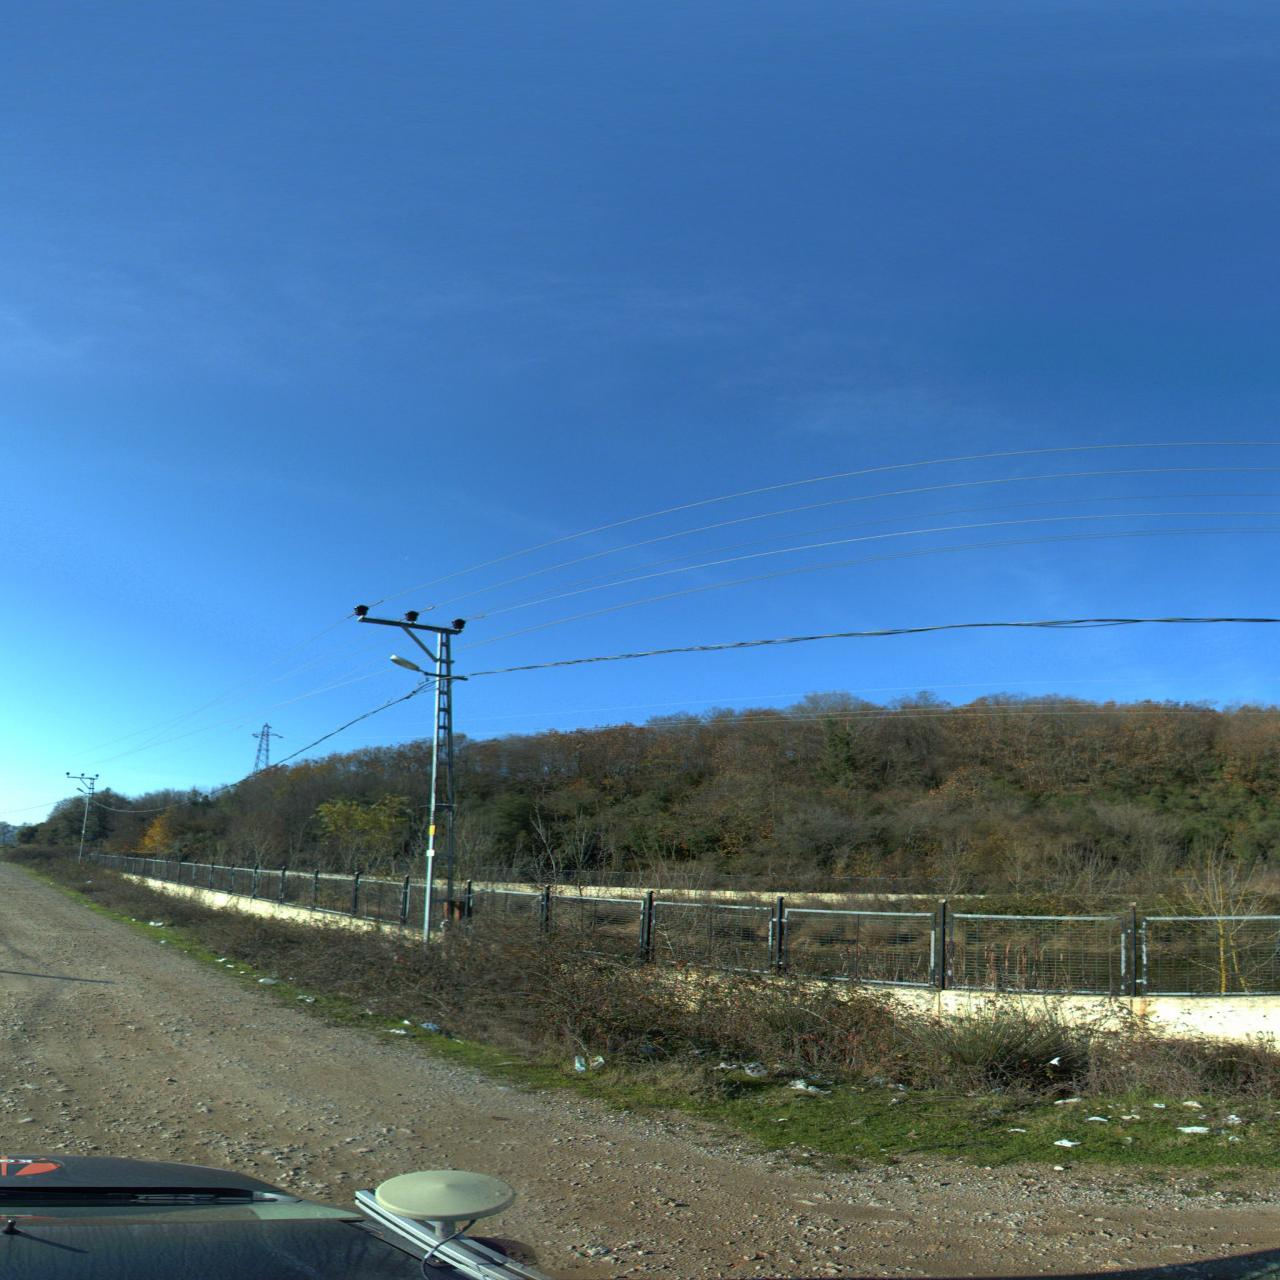Utility Pole Information Plate: (425, 850, 435, 857), (429, 824, 435, 835)
